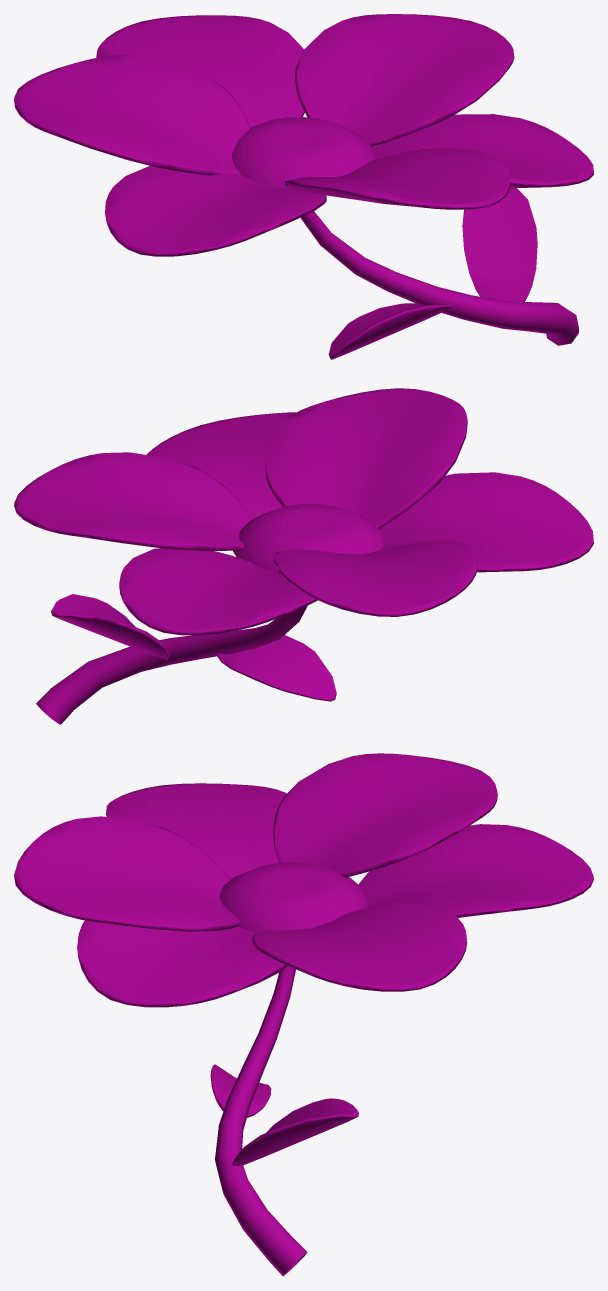
The model's file is sm_flower_01.fbx.
3 renders of one model, top to bottom at view 1: azimuth 30°, elevation 25°; view 2: azimuth 150°, elevation 25°; view 3: azimuth 270°, elevation 25°, orthographic. The views are drawn at different scales.
Visible parts, largest first — view 1: sm_flower_01; view 2: sm_flower_01; view 3: sm_flower_01.
Boxes of the visible parts, x1,y1,x2,y2 form: sm_flower_01: (14, 14, 593, 359); sm_flower_01: (14, 388, 593, 724); sm_flower_01: (14, 753, 593, 1276).
Bounding box in the file's own units: 143 × 83.2 × 143.
